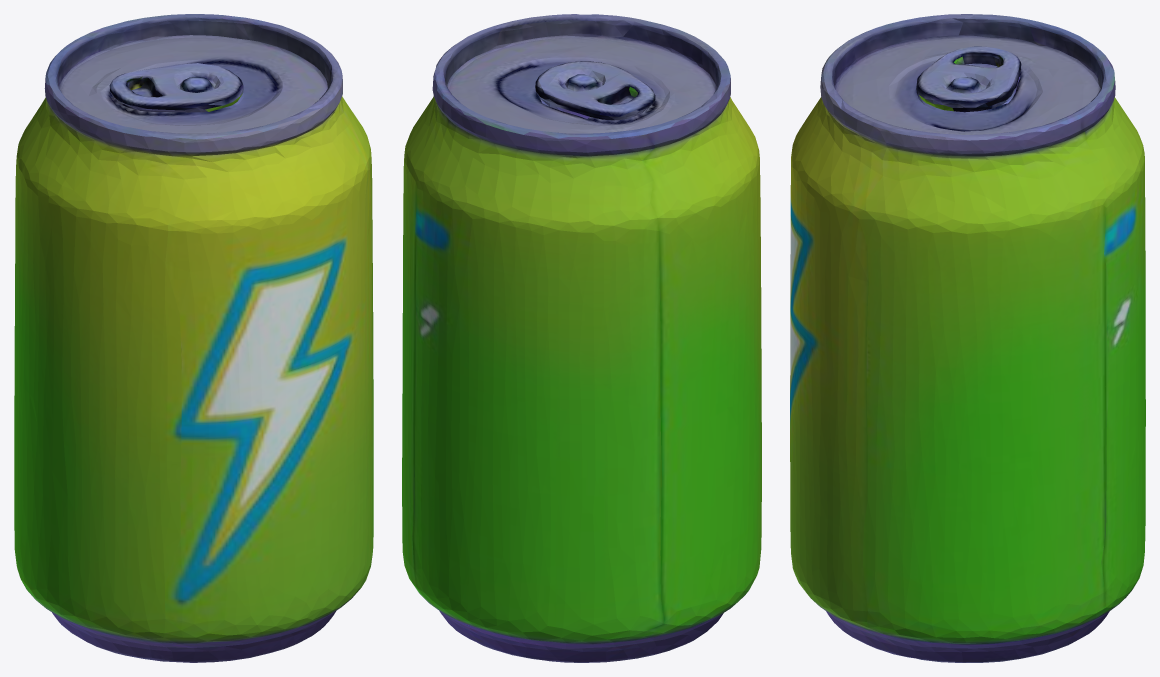
The model's file is energy_drink.glb.
3 renders of one model, left to right at view 1: azimuth 30°, elevation 25°; view 2: azimuth 150°, elevation 25°; view 3: azimuth 270°, elevation 25°, orthographic.
Parts seen in each view (by area): view 1: tmphwi20v38.ply; view 2: tmphwi20v38.ply; view 3: tmphwi20v38.ply.
Boxes of the visible parts, <box> form: tmphwi20v38.ply: <box>14,14,373,662</box>; tmphwi20v38.ply: <box>402,14,761,662</box>; tmphwi20v38.ply: <box>790,14,1145,662</box>.
Bounding box in the file's own units: 1.23 × 1.99 × 1.21.
1 material, 1 textured.
